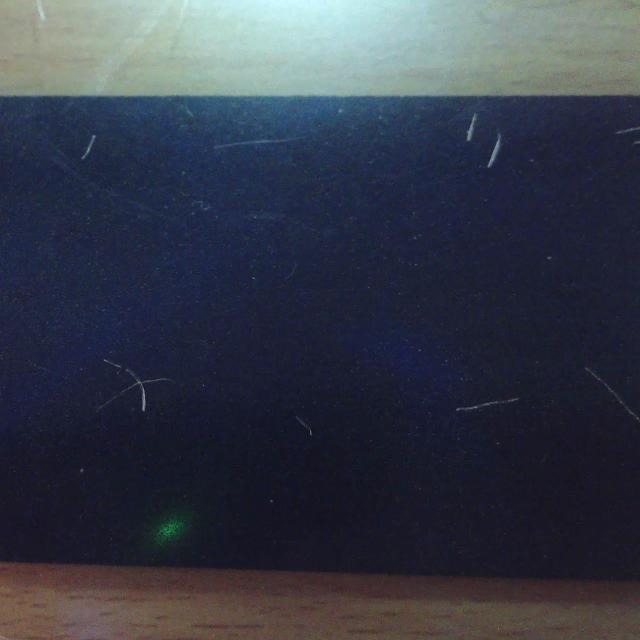defect: (96, 359, 172, 413), (583, 366, 639, 435), (453, 391, 523, 417), (214, 134, 298, 153), (290, 410, 322, 444), (486, 128, 510, 171), (459, 110, 482, 144), (613, 121, 640, 148), (78, 131, 101, 162)
